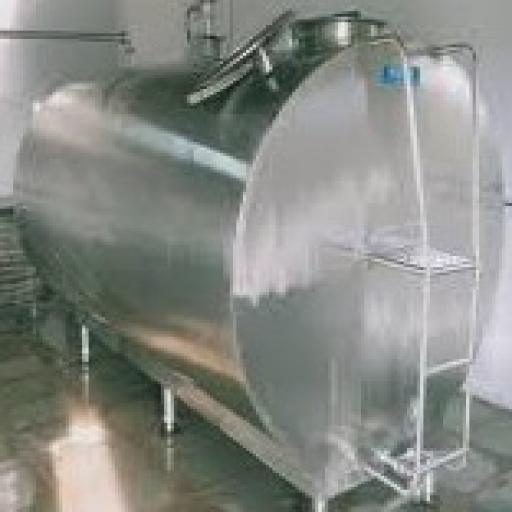silo: (14, 19, 506, 501)
